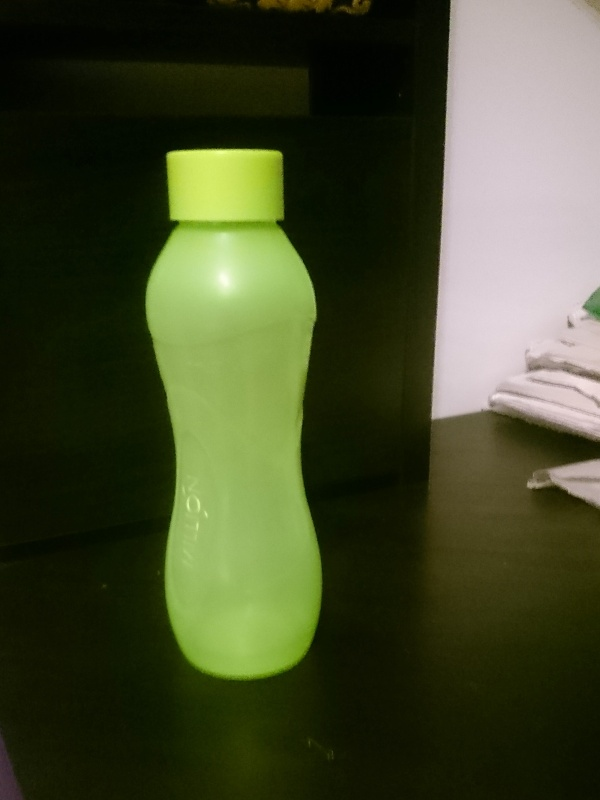my bottle: (146, 152, 321, 681)
